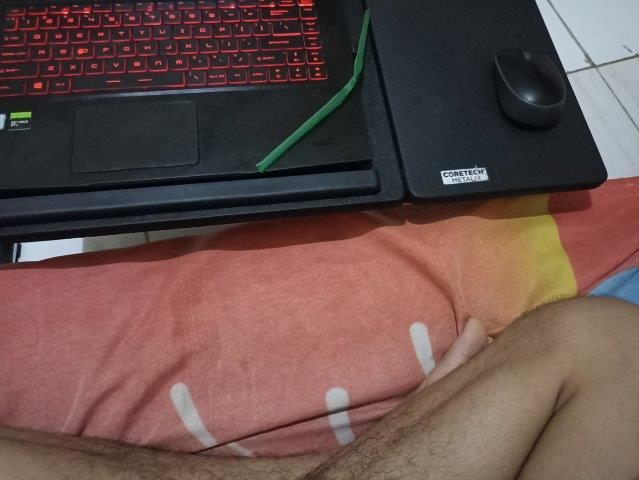sedotan: (257, 9, 371, 173)
